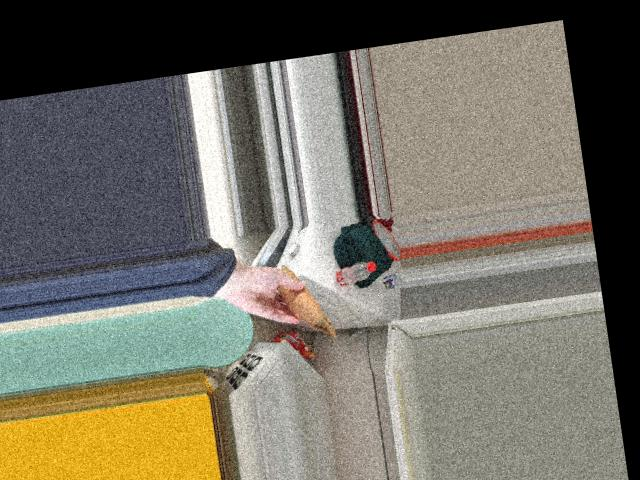sweet_potato: (277, 273, 322, 326)
